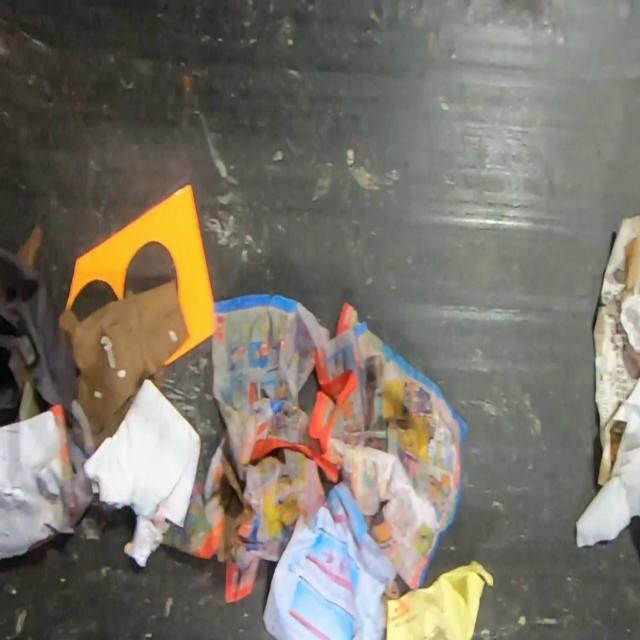cardboard: (64, 180, 216, 367), (58, 279, 188, 453), (14, 218, 46, 268)
soft_plastic: (0, 247, 80, 432)
